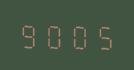five: (90, 20, 113, 50)
nine: (18, 19, 41, 49)
zero: (66, 19, 89, 50), (42, 19, 65, 49)
